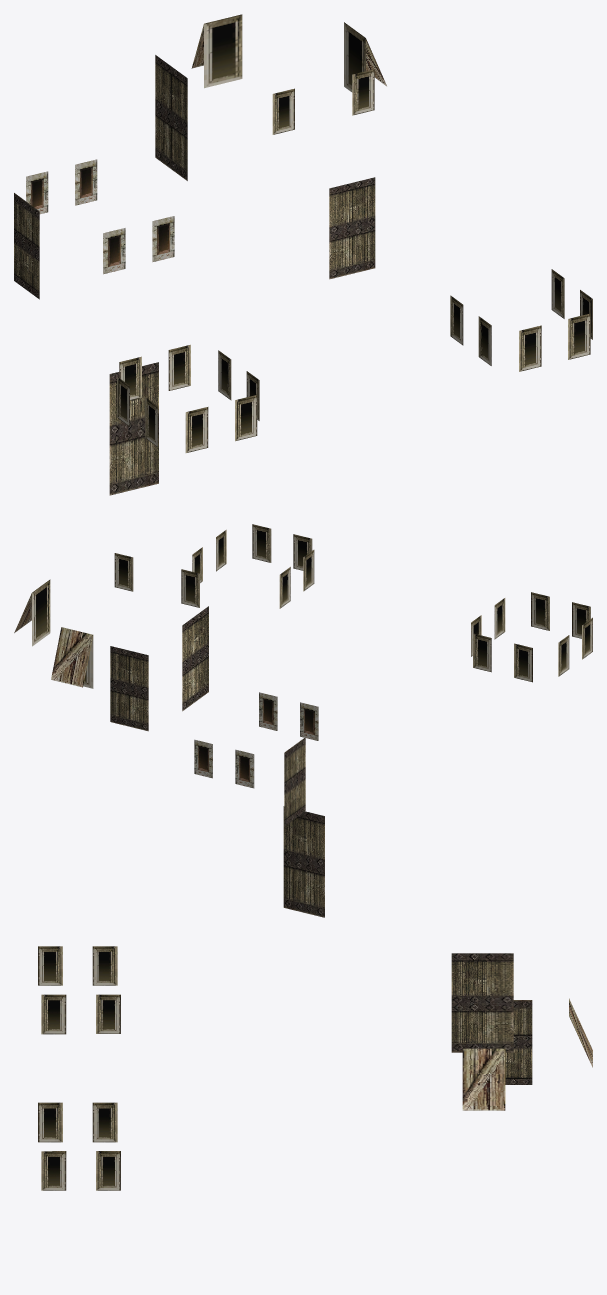
The model's file is hele_fortress_props.dae.
3 views of the same model, one above another, from view 1: azimuth 30°, elevation 25°; view 2: azimuth 150°, elevation 25°; view 3: azimuth 270°, elevation 25° (orthographic). The views are drawn at different scales.
Parts seen in each view (by area): view 1: Object1044; view 2: Object1044; view 3: Object1044.
Boxes of the visible parts, x1,y1,x2,y2 form: Object1044: (14,14,592,495); Object1044: (14,524,592,917); Object1044: (38,946,592,1190).
Bounding box in the file's own units: 26.16 × 30.31 × 20.51.
